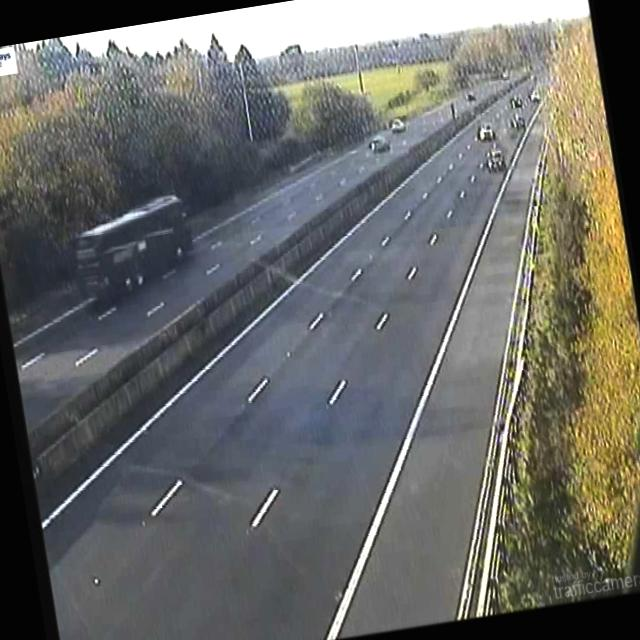foliage: (0, 38, 310, 313), (501, 21, 640, 605)
